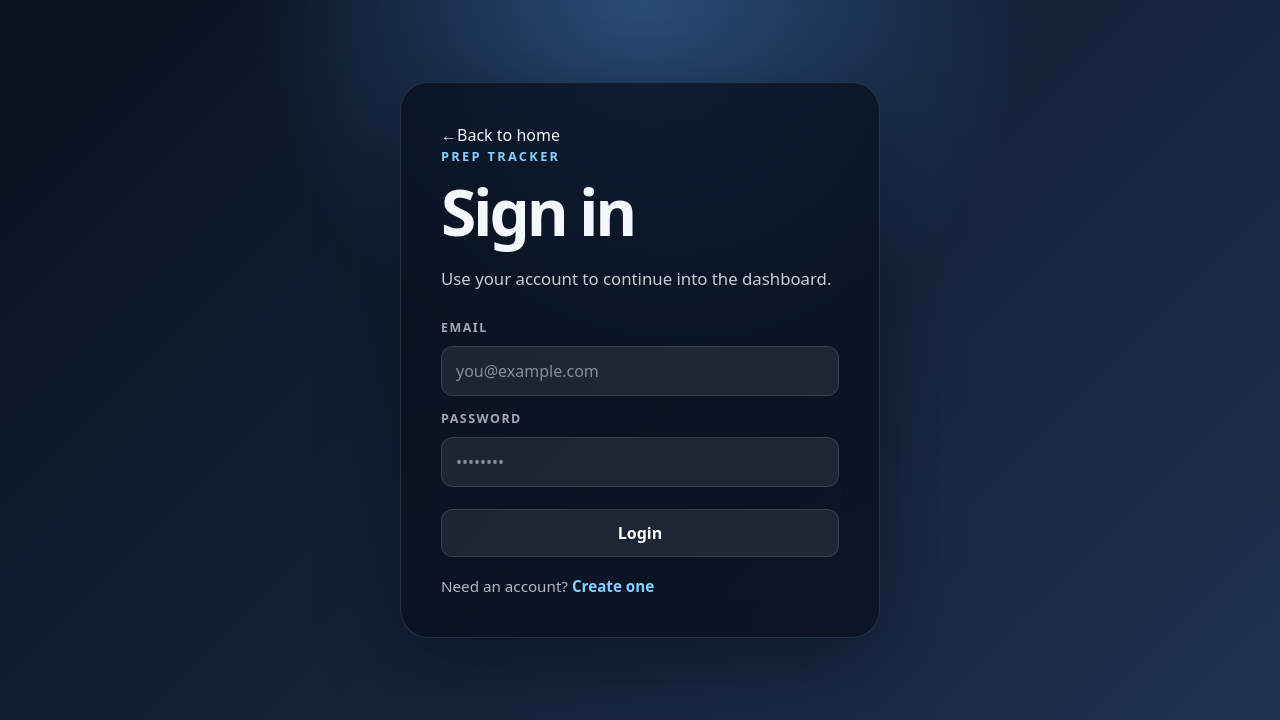
Test case: LoginForm › shows a validation error when email is missing
Click the button "Login" at (640, 533), box top-left (441, 509), bottom-right (839, 557)
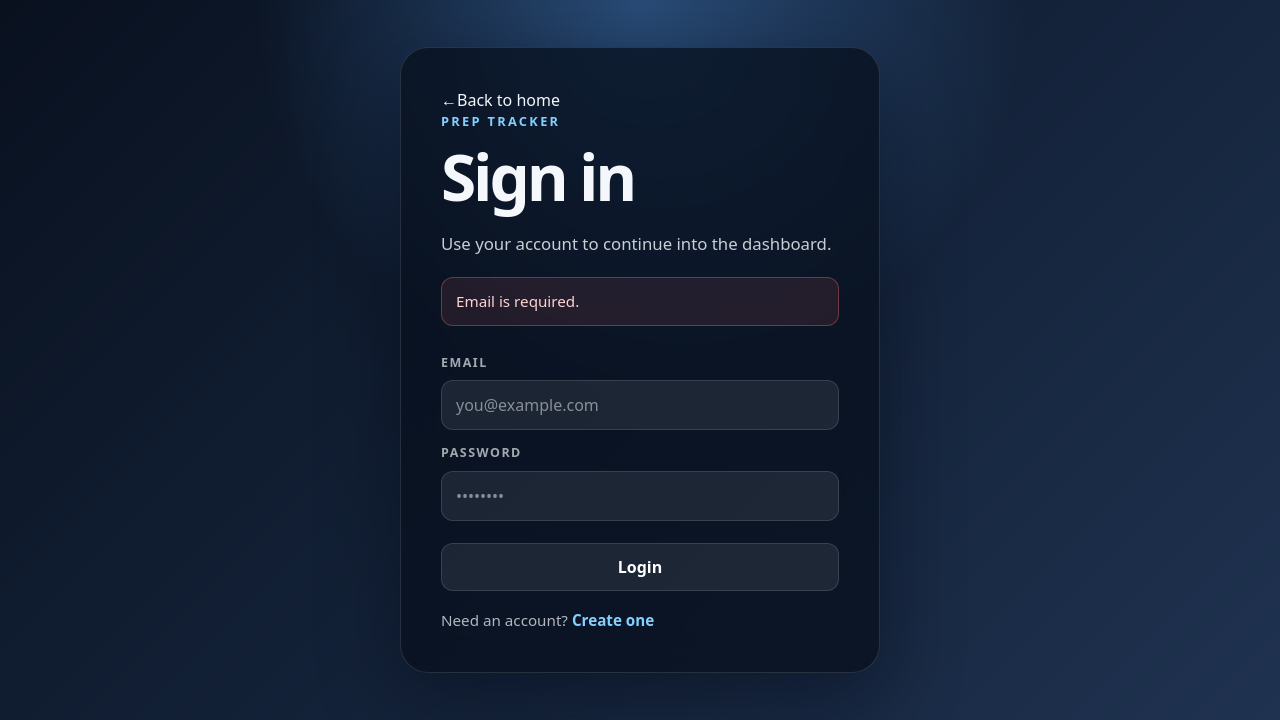
Expected: the message reads "Email is required.", top-left (456, 291), bottom-right (579, 311)
